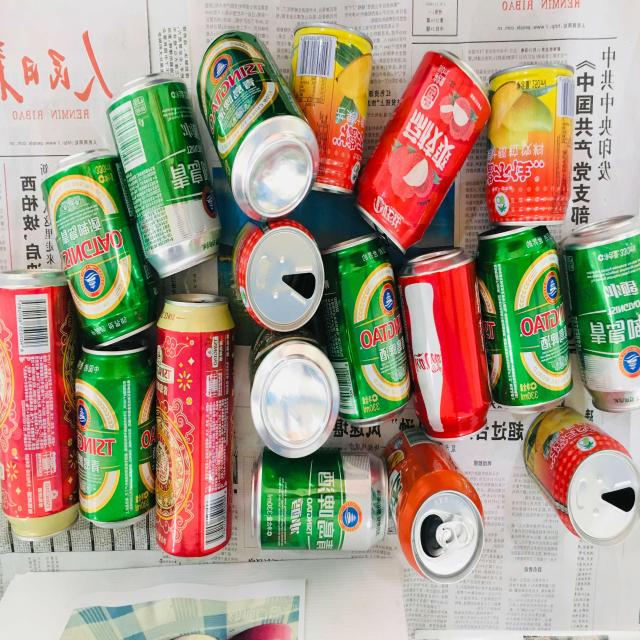metal: (356, 52, 490, 252), (196, 32, 319, 220), (108, 73, 221, 277), (41, 150, 156, 345), (0, 270, 79, 540), (155, 293, 234, 557), (476, 225, 572, 413), (398, 248, 491, 442), (321, 233, 410, 427), (524, 407, 640, 547), (384, 428, 484, 583), (75, 338, 156, 528), (562, 215, 640, 412), (486, 65, 575, 225), (251, 447, 389, 550), (290, 22, 372, 193), (250, 328, 339, 458), (232, 220, 324, 332)
